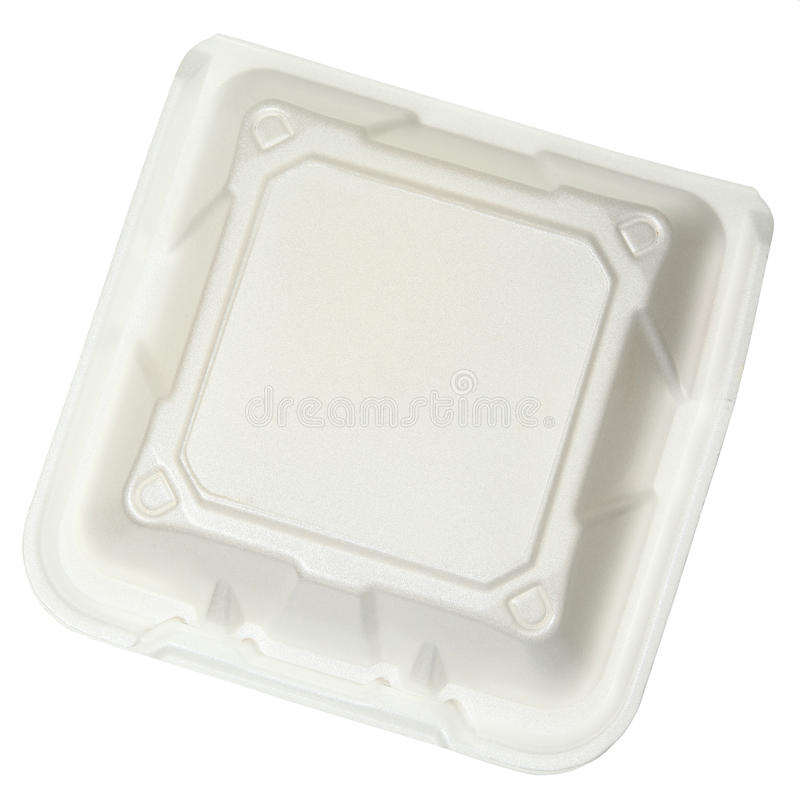Nonrec_Plastic: (11, 18, 777, 794)
